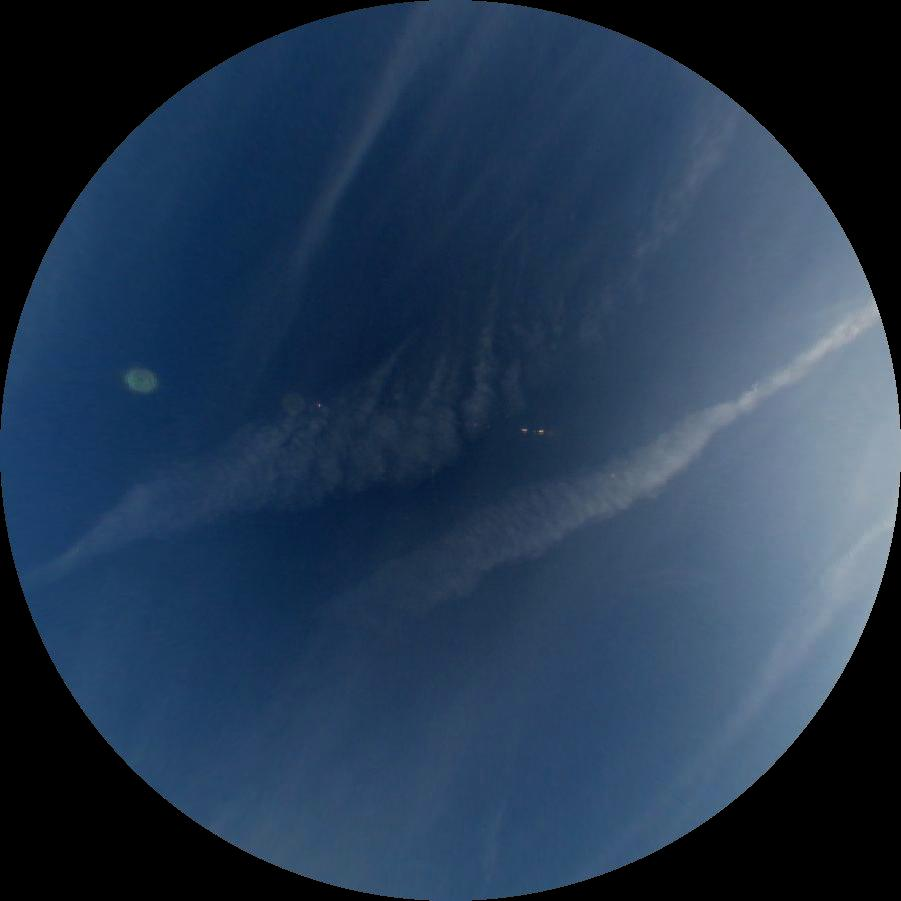contrail veryold: (14, 67, 806, 714), (299, 302, 901, 670), (666, 513, 895, 806)
